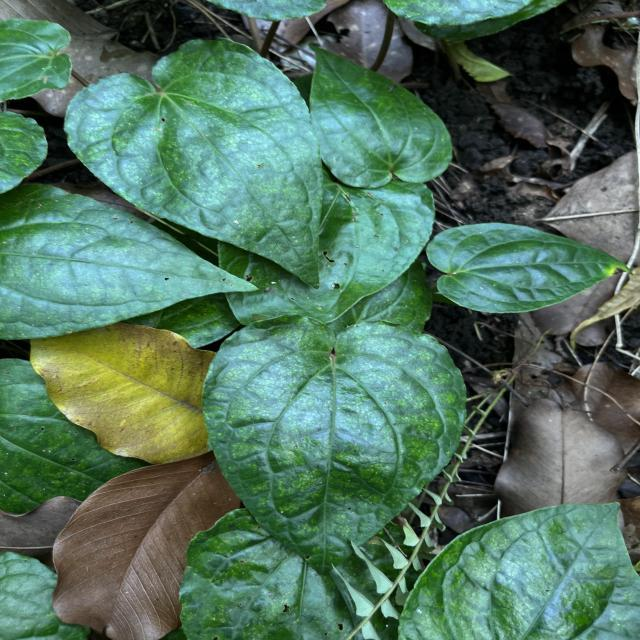Piper betle: (196, 310, 470, 580)
